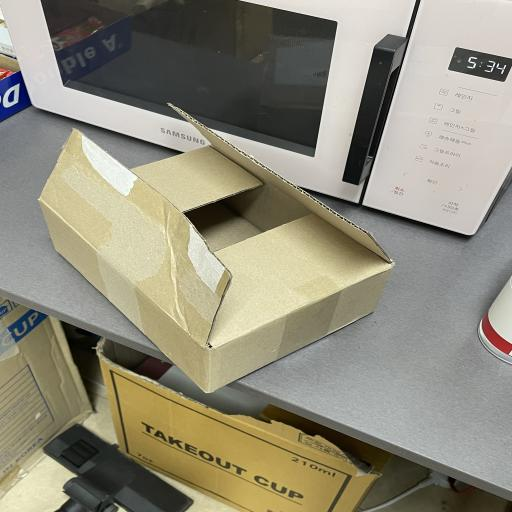box: (38, 101, 397, 394)
opened: (39, 101, 397, 351)
